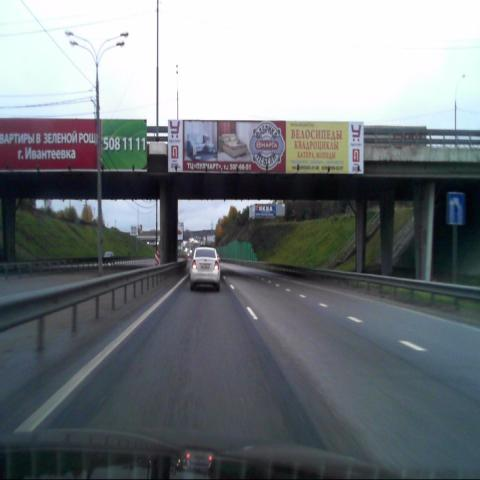5_15_5: (446, 193, 464, 224)
